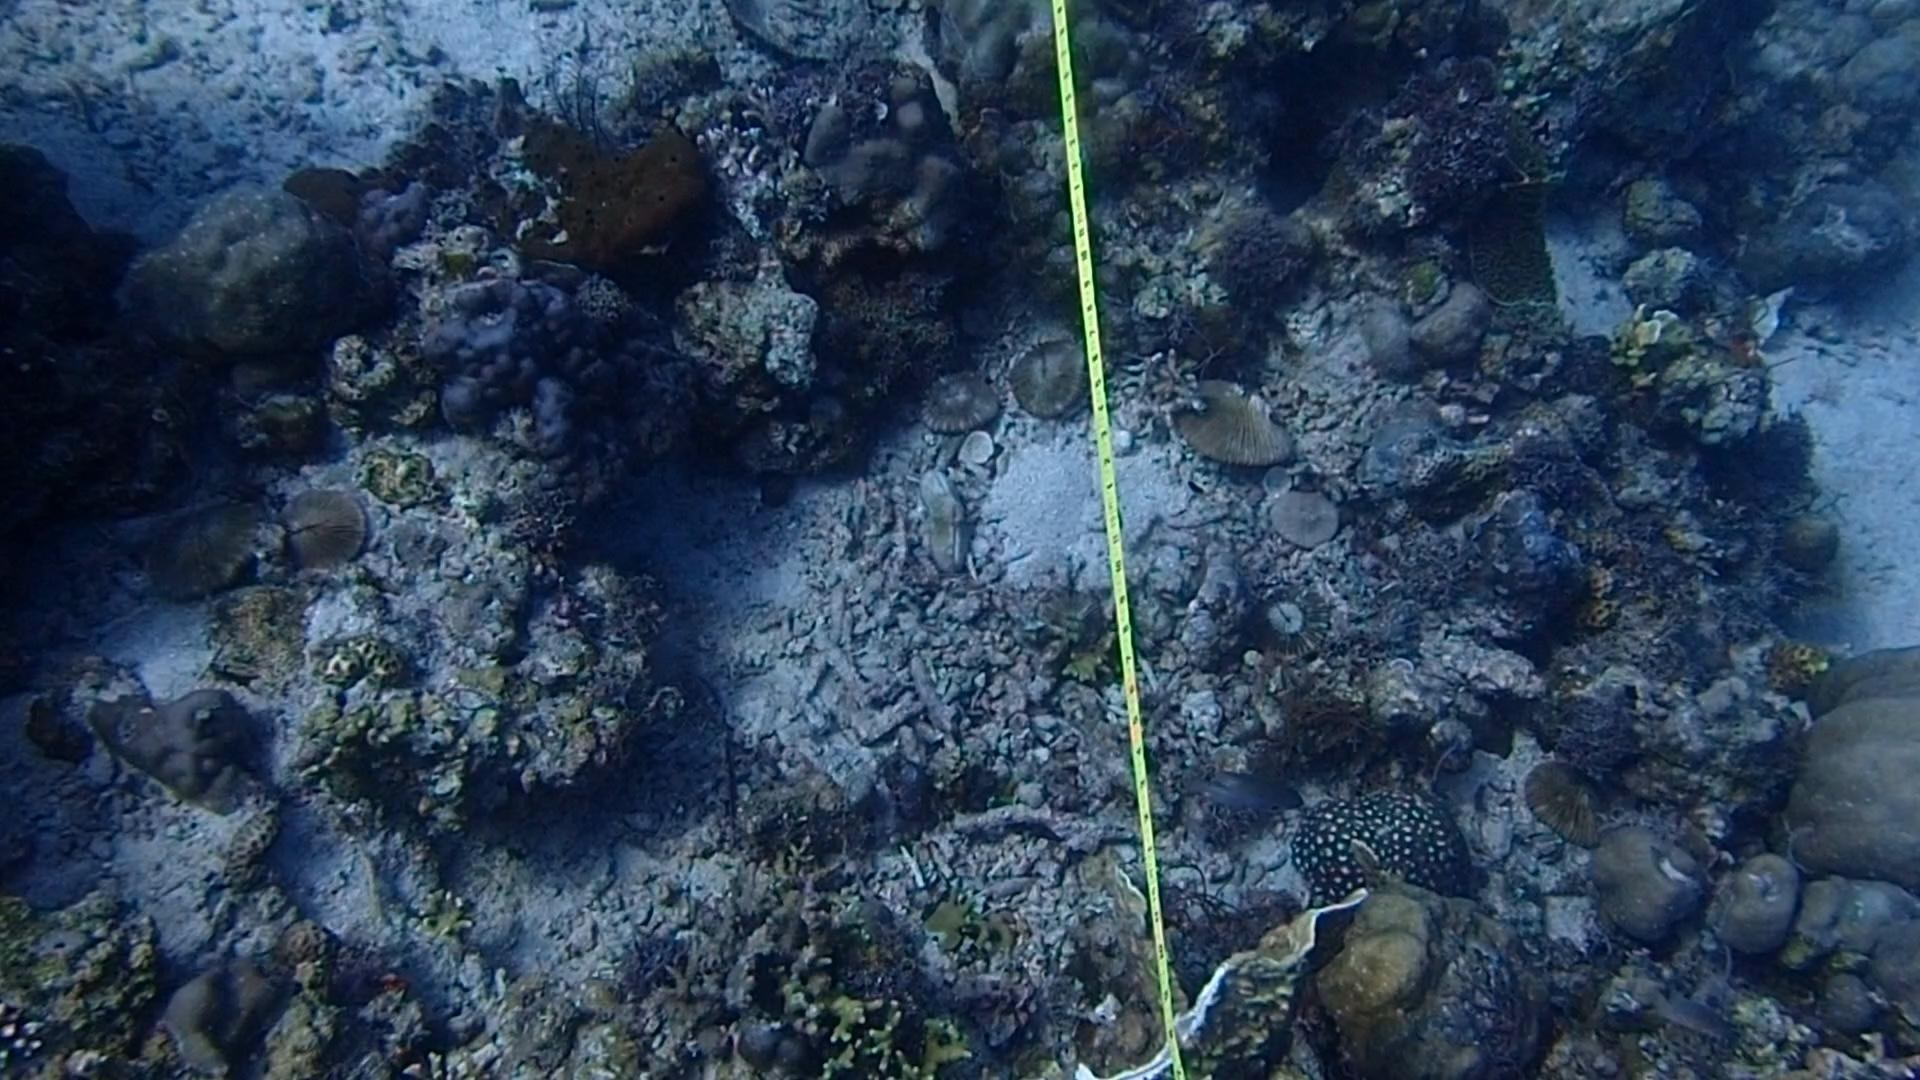Light Fish: (1183, 748, 1312, 836)
